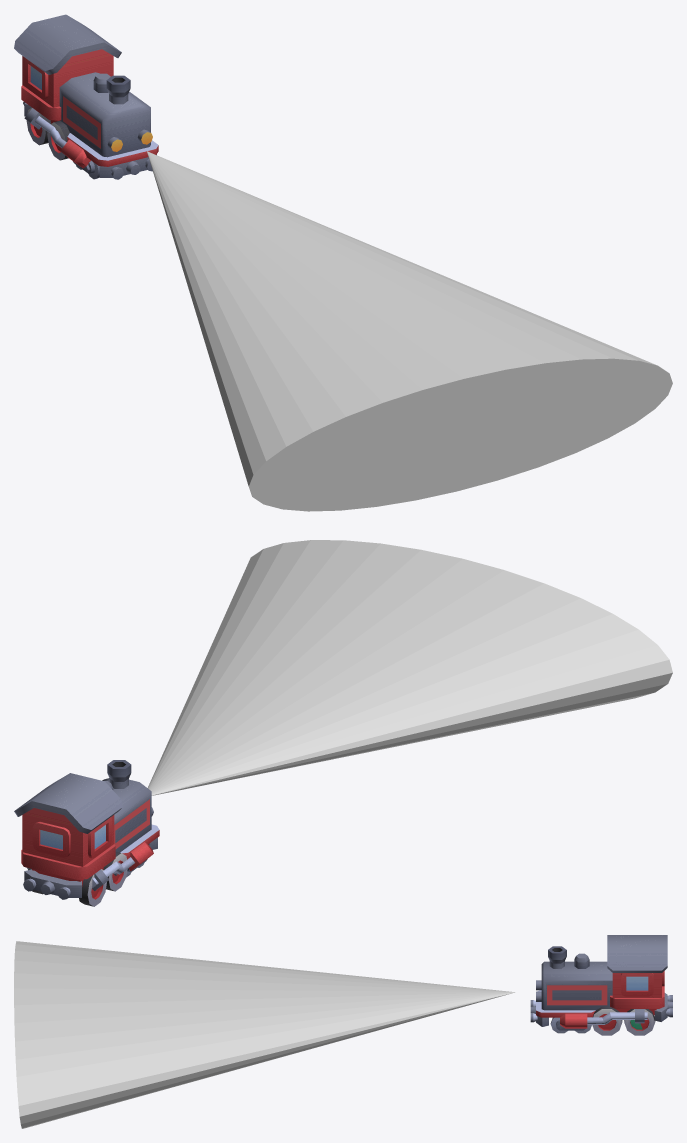
The model's file is train1.glb.
3 views of the same model, one above another, from view 1: azimuth 30°, elevation 25°; view 2: azimuth 150°, elevation 25°; view 3: azimuth 270°, elevation 25° (orthographic). The views are drawn at different scales.
Parts seen in each view (by area): view 1: trainlight, train-locomotive-b; view 2: trainlight, train-locomotive-b; view 3: trainlight, train-locomotive-b, wheel.008, wheel.009.
Boxes of the visible parts, x1,y1,x2,y2 form: trainlight: (147,151,672,511); train-locomotive-b: (14,14,158,179); trainlight: (148,540,672,795); train-locomotive-b: (14,760,159,899); trainlight: (14,941,515,1128); train-locomotive-b: (530,935,672,1028); wheel.008: (592,1006,622,1035); wheel.009: (624,1009,655,1035).
Bounding box in the file's own units: 7.07 × 2.8 × 12.03.
1 material, 1 textured.
